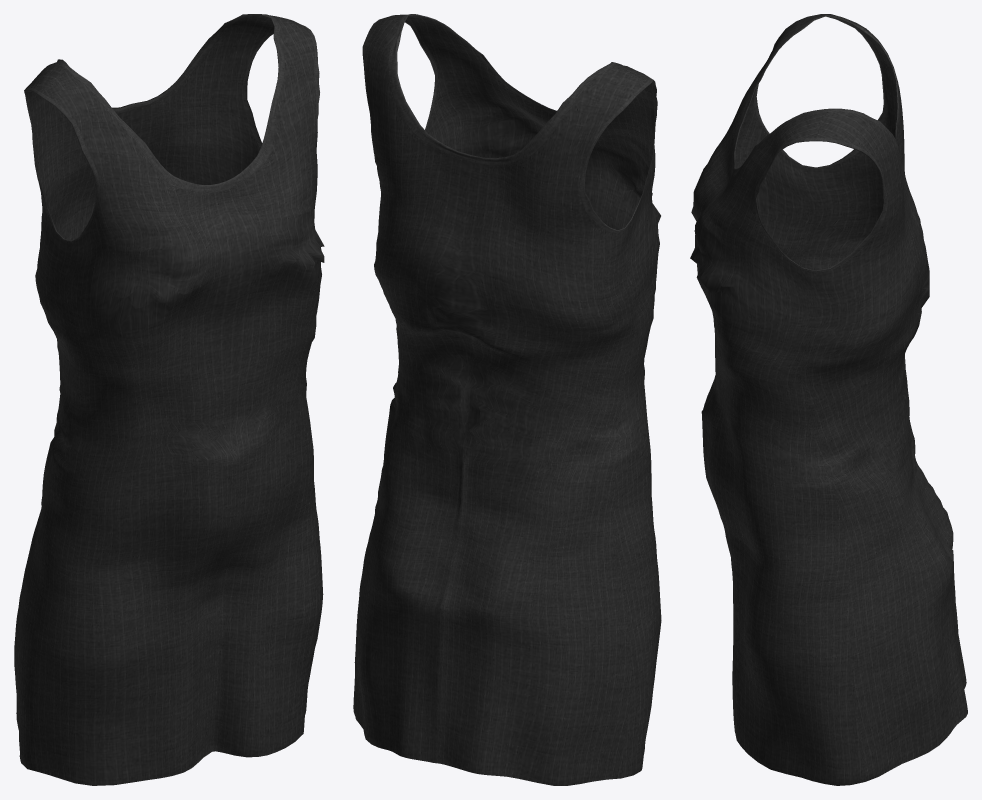
The model's file is dress_shift.gltf.
3 renders of one model, left to right at view 1: azimuth 30°, elevation 25°; view 2: azimuth 150°, elevation 25°; view 3: azimuth 270°, elevation 25°, orthographic. The views are drawn at different scales.
Parts seen in each view (by area): view 1: dress_shift; view 2: dress_shift; view 3: dress_shift.
Boxes of the visible parts, box(x1,y1,x2,y2) form: dress_shift: box(14, 14, 324, 785); dress_shift: box(353, 14, 661, 785); dress_shift: box(690, 14, 967, 785).
Bounding box in the file's own units: 0.3988 × 0.9342 × 0.3558.
1 material, 1 textured.
